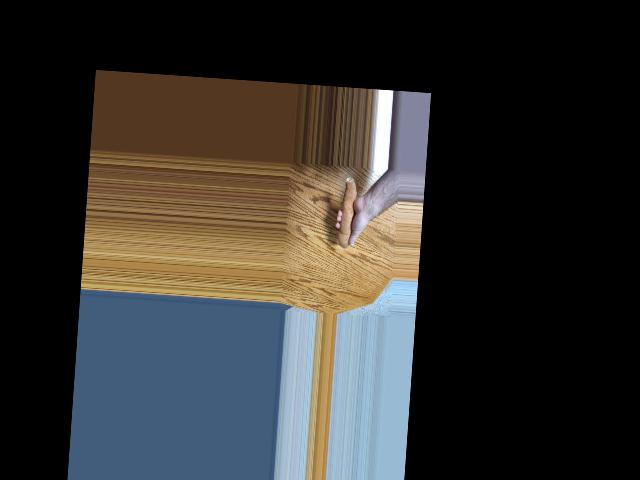sweet_potato: (334, 175, 362, 254)
